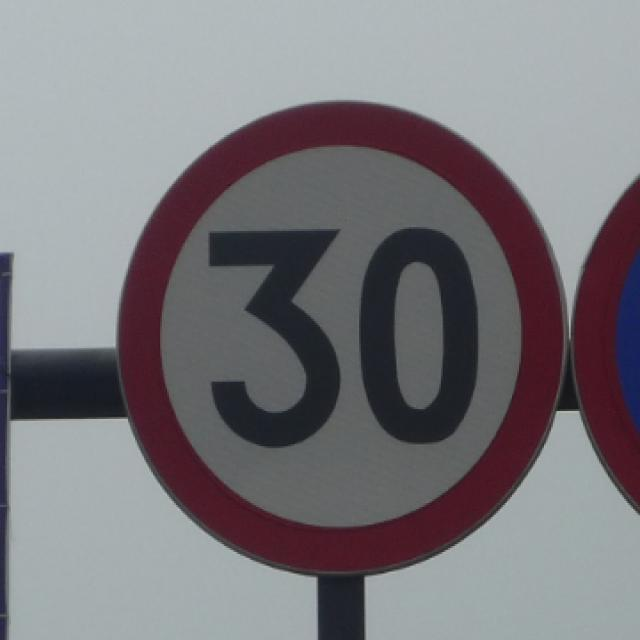Speed: (114, 93, 568, 586)
